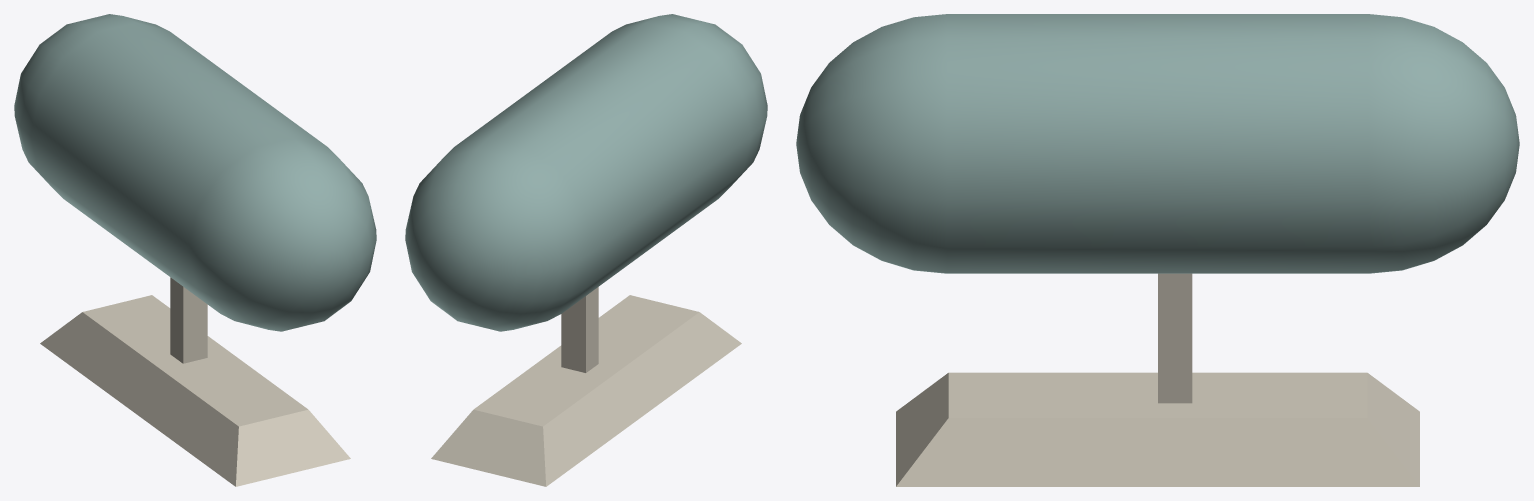
The model's file is Microphone.FBX.
3 renders of one model, left to right at view 1: azimuth 30°, elevation 25°; view 2: azimuth 150°, elevation 25°; view 3: azimuth 270°, elevation 25°, orthographic. The views are drawn at different scales.
Parts seen in each view (by area): view 1: Microphone; view 2: Microphone; view 3: Microphone.
Boxes of the visible parts, left/top/right/bottom form: Microphone: left=14, top=14, right=376, bottom=486; Microphone: left=405, top=14, right=767, bottom=486; Microphone: left=796, top=14, right=1519, bottom=486.
Bounding box in the file's own units: 2.8 × 4.91 × 7.62.
